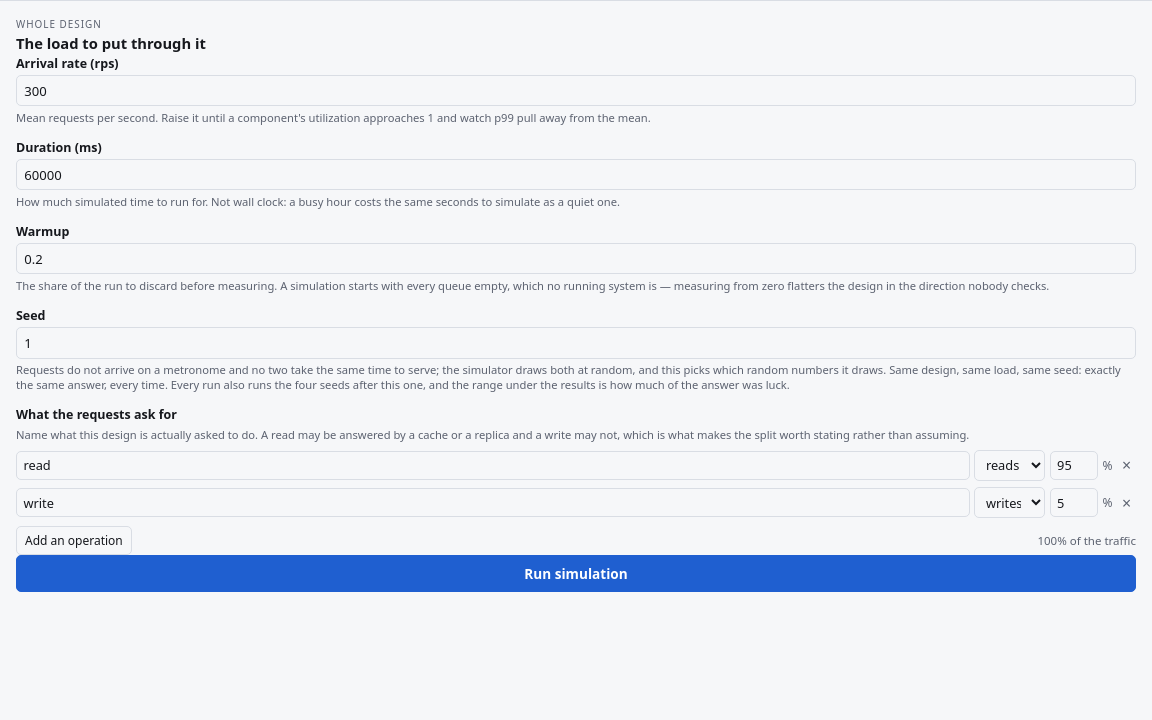
Test: SimulationPanel › shows the engine's own words when it refuses
Click the button "Run simulation". click: (576, 574)
box: [16, 555, 1136, 592]
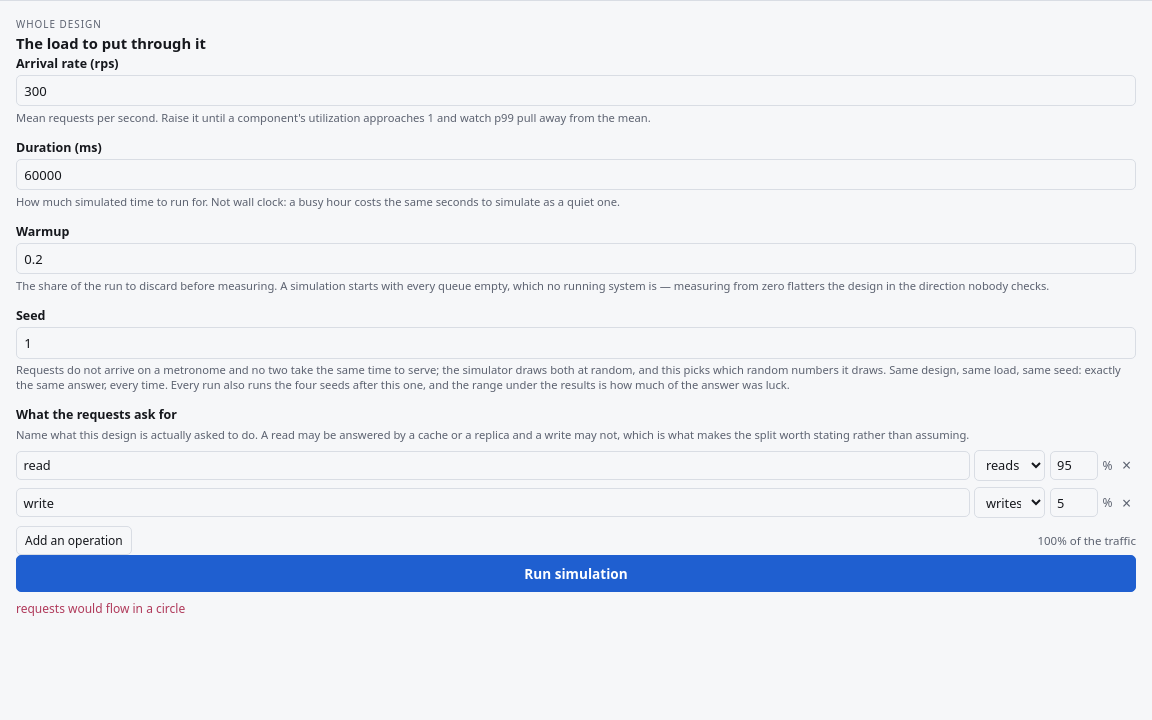
Check: the message reads "requests would flow in a circle", box [16, 600, 185, 617]
